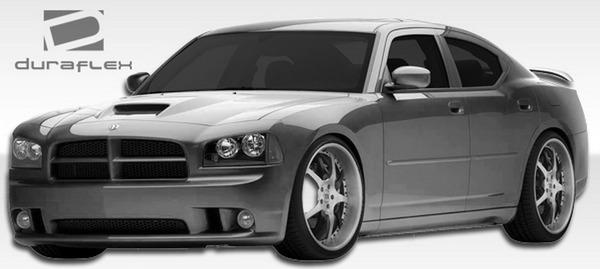car: (4, 17, 593, 269)
